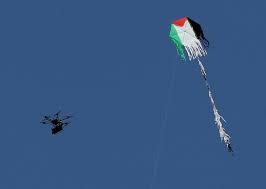drone_other: (39, 109, 73, 135)
